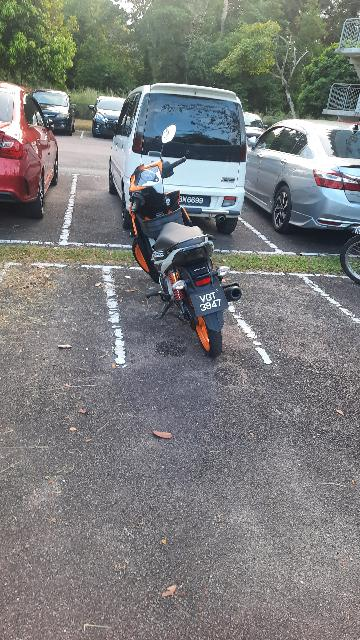License_Plate: (185, 287, 237, 317)
motorcycle: (116, 133, 276, 368)
